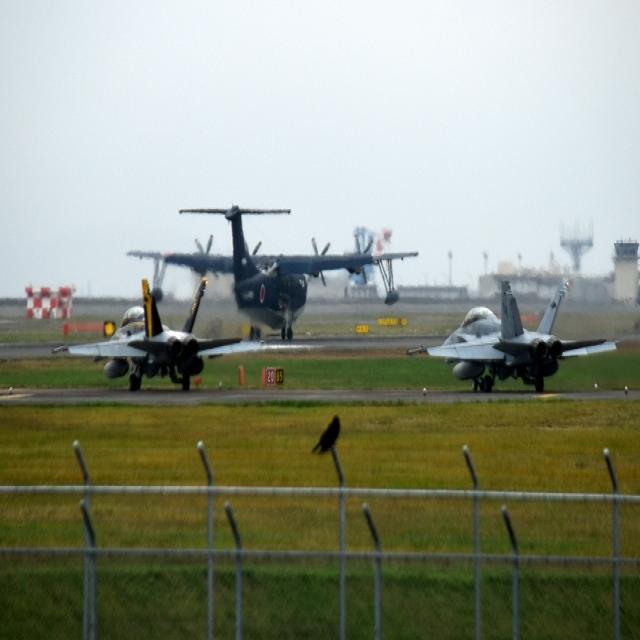MIL_Plane: (124, 202, 419, 341), (405, 277, 620, 393), (50, 276, 241, 392)
